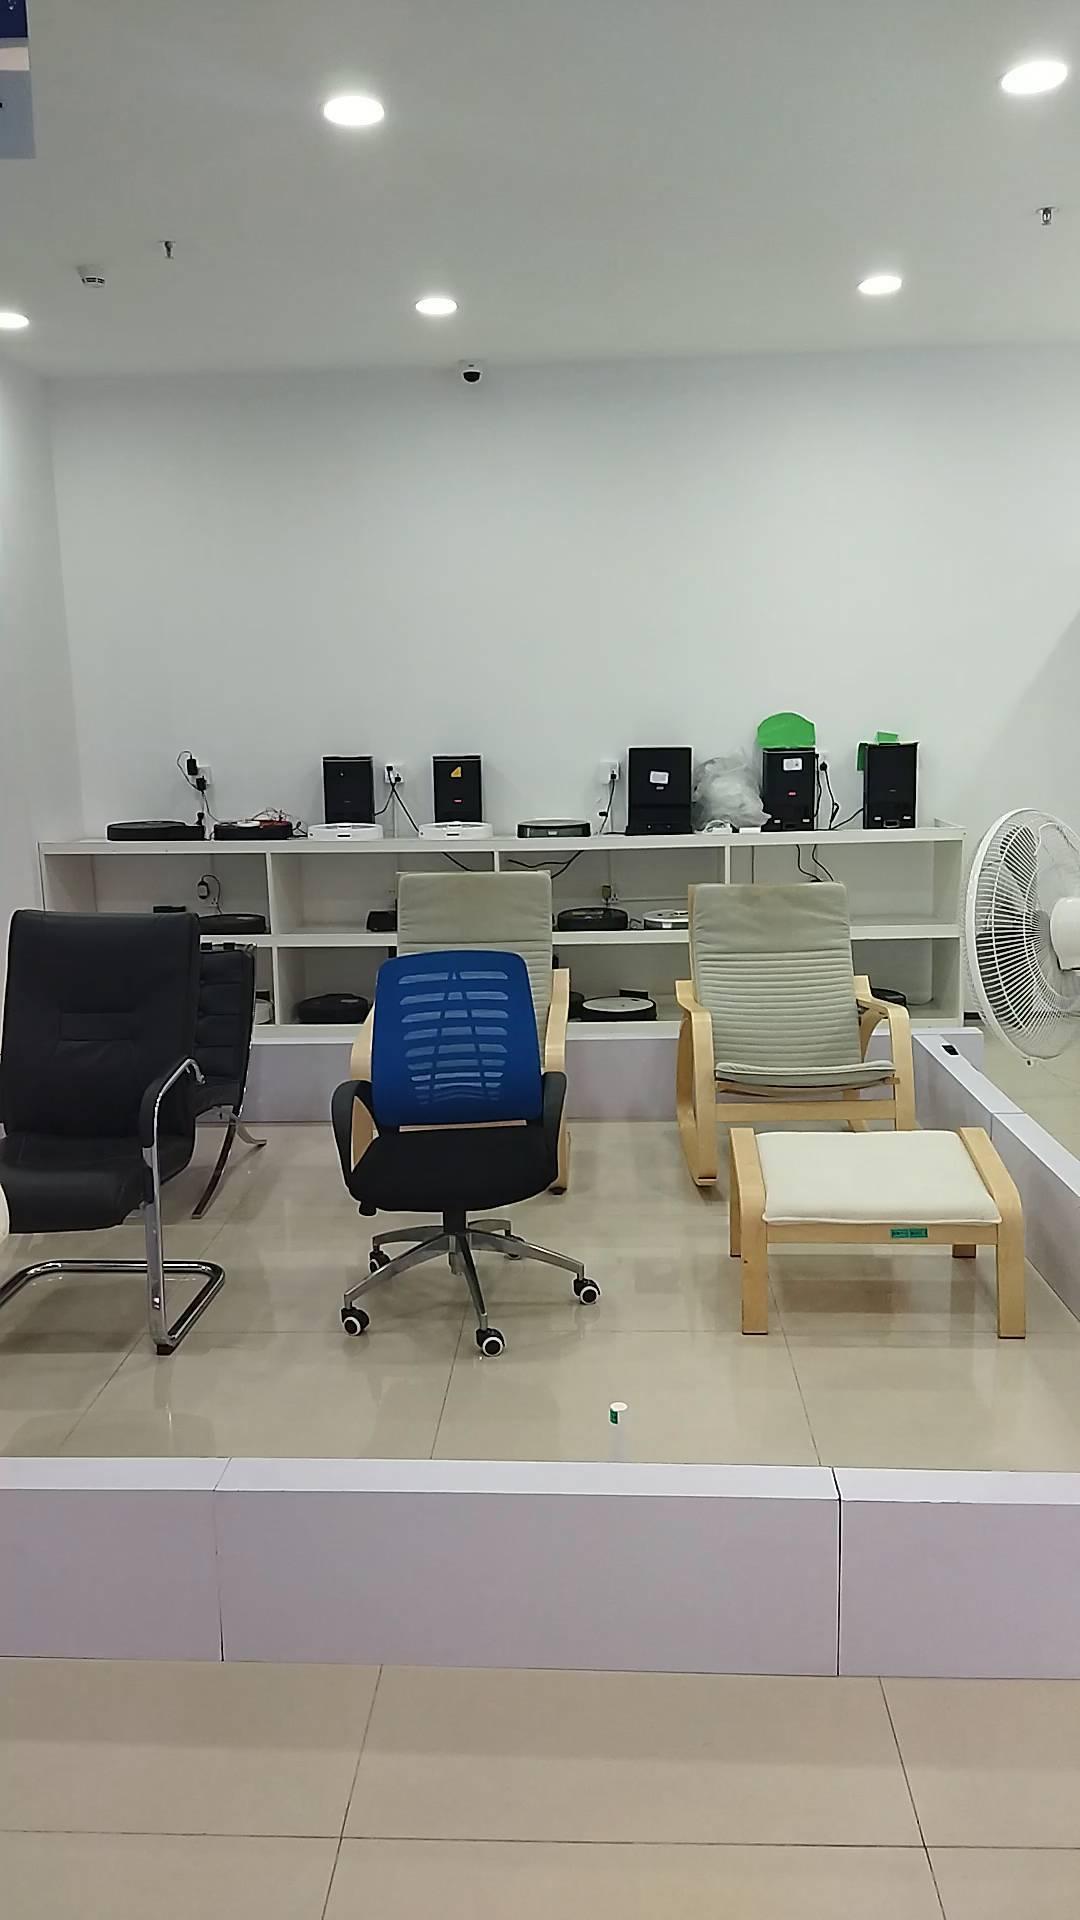dust collecting barrel: (625, 746, 700, 837), (764, 745, 825, 833), (861, 742, 916, 831), (318, 754, 375, 820), (434, 754, 484, 827)
recharge seat: (367, 911, 398, 934)
